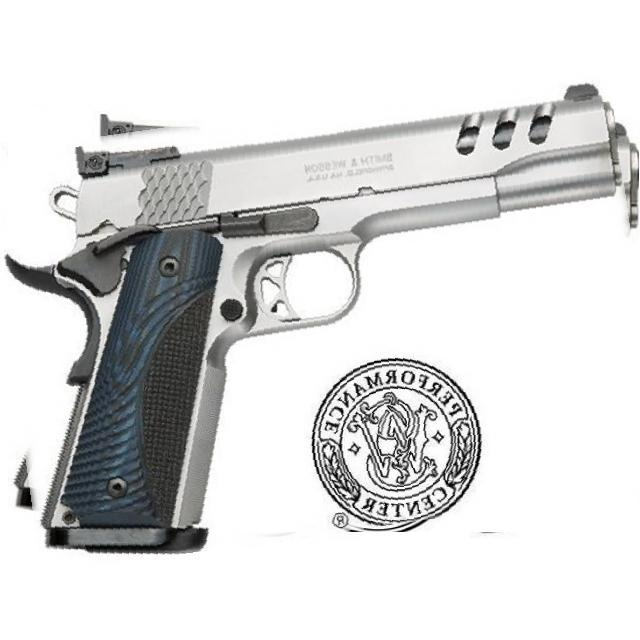gun: (0, 86, 640, 552)
